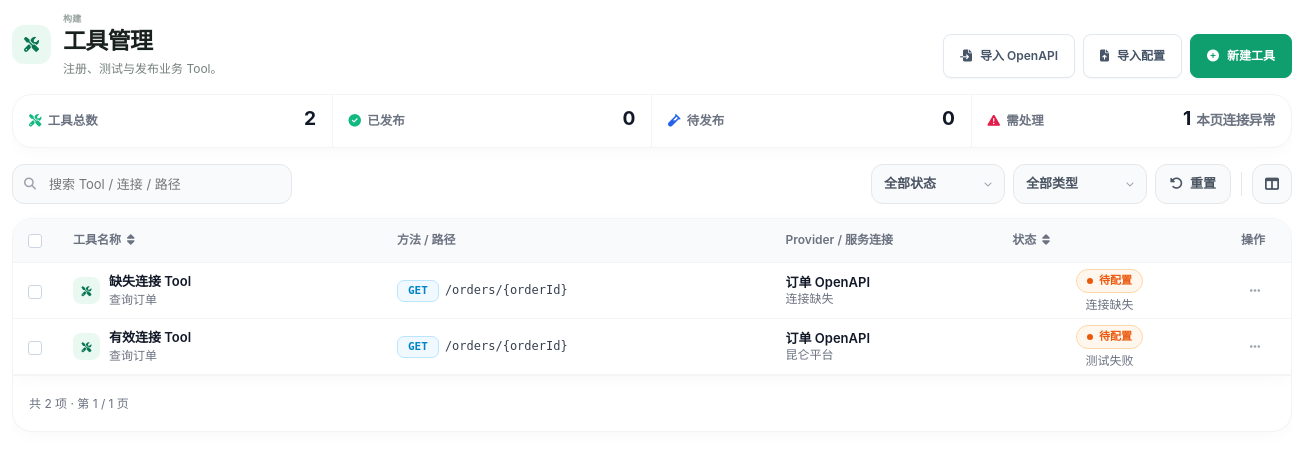
it: tools view detail behavior › renders compact two-line Tool identity cells and controlled row checkboxes
Click the checkbox named "选择 缺失连接 Tool" at (35, 292), box x1=28 y1=285 x2=42 y2=299
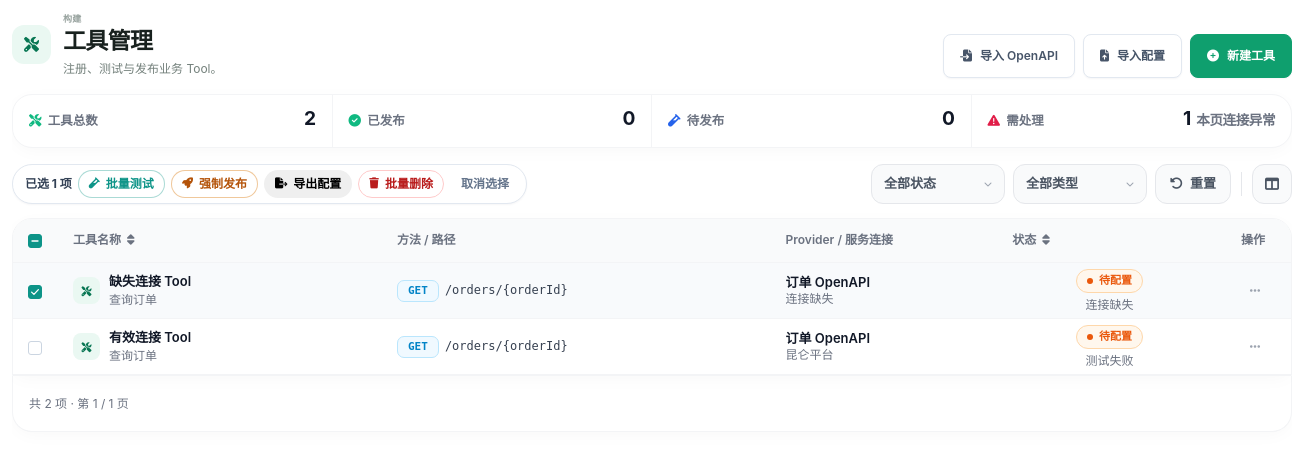
expect the message with class "management-list-batch-bar" shows "已选 1 项": met, box x1=25 y1=176 x2=72 y2=191
expect the message with class "management-list-batch-bar" shows "批量测试": met, box x1=78 y1=170 x2=165 y2=198
expect the message with class "management-list-batch-bar" shows "批量删除": met, box x1=358 y1=170 x2=444 y2=198
